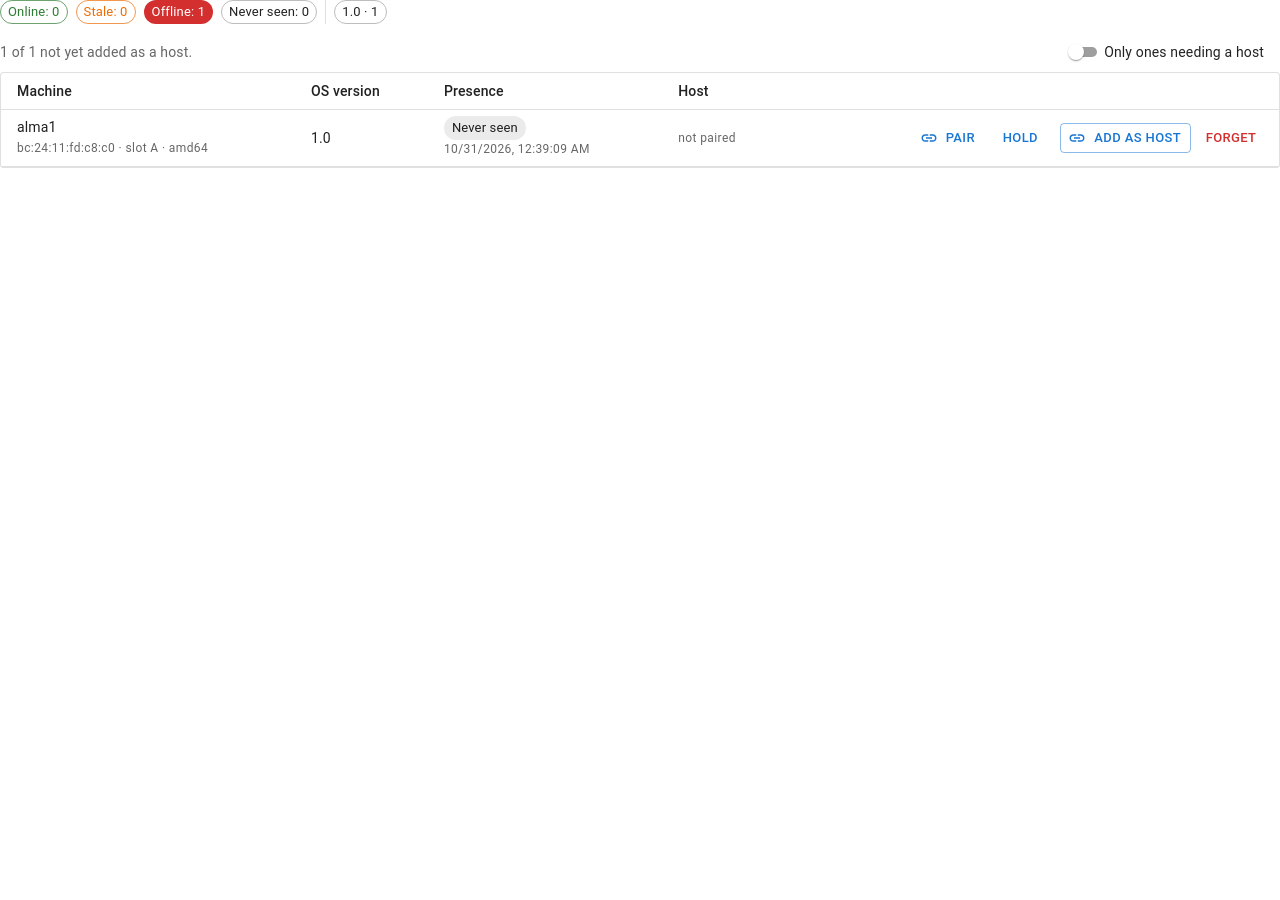
Test: forgetting a machine › opens a confirmation rather than deleting on the first click
This screenshot has width=1280, height=900.
Click the button "Forget" at [1231, 138], box [1199,123,1263,153]
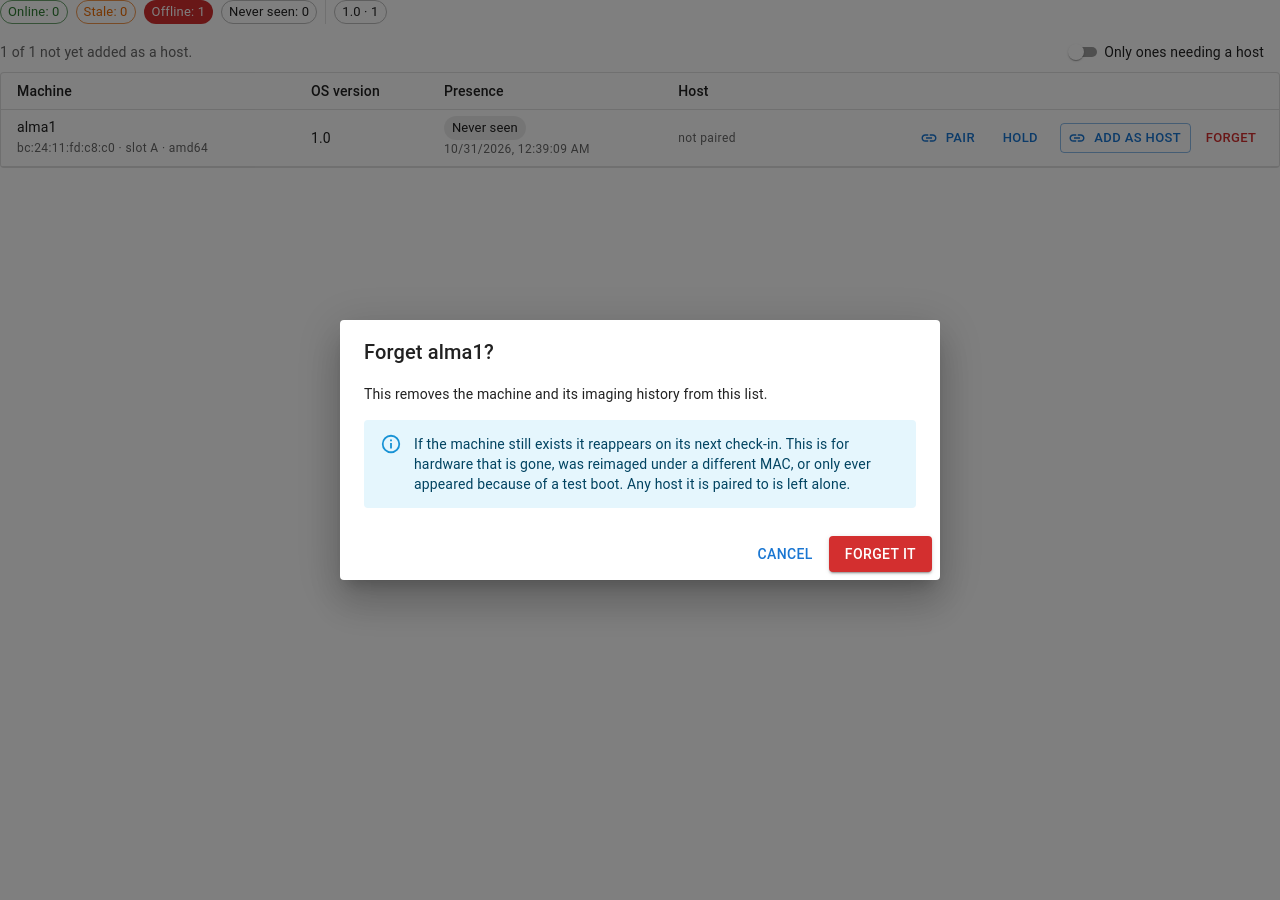
Now the button "Forget it" is shown, box [829,536,932,572]
